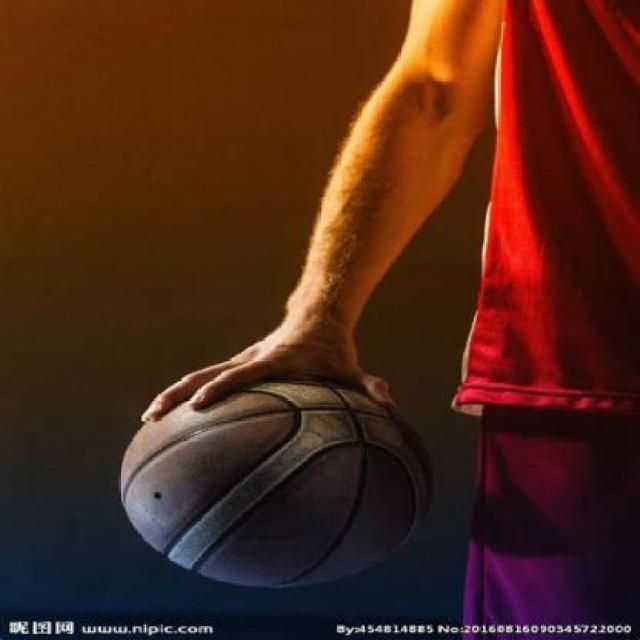basketball: (119, 383, 435, 591)
